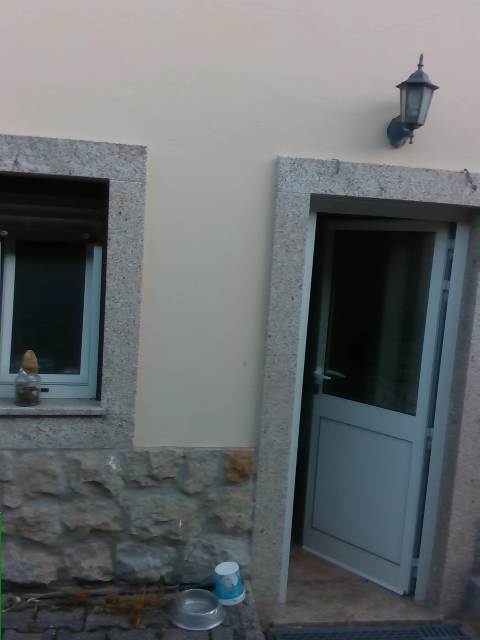semi: (275, 198, 479, 609)
